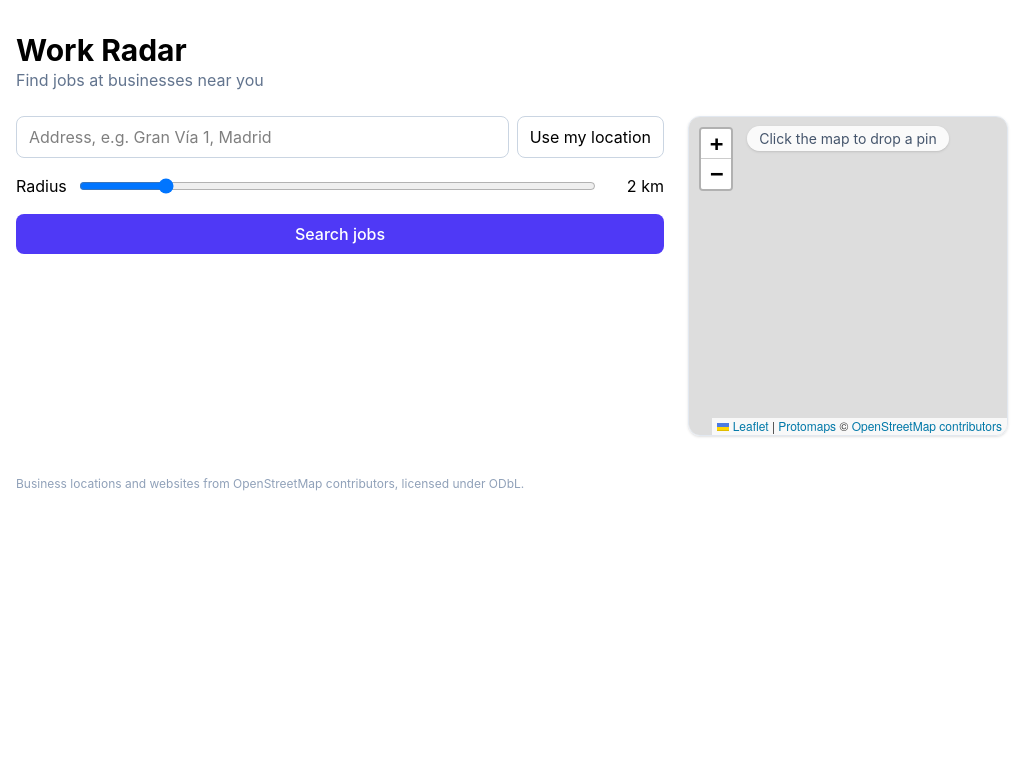
Test case: keeps the two searches apart: positions open, and businesses that only take a CV
Type "Écublens" into the dropdown with placeholder "Address, e.g. Gran Vía 1, Madrid" at (262, 137), box [16,116,509,158]
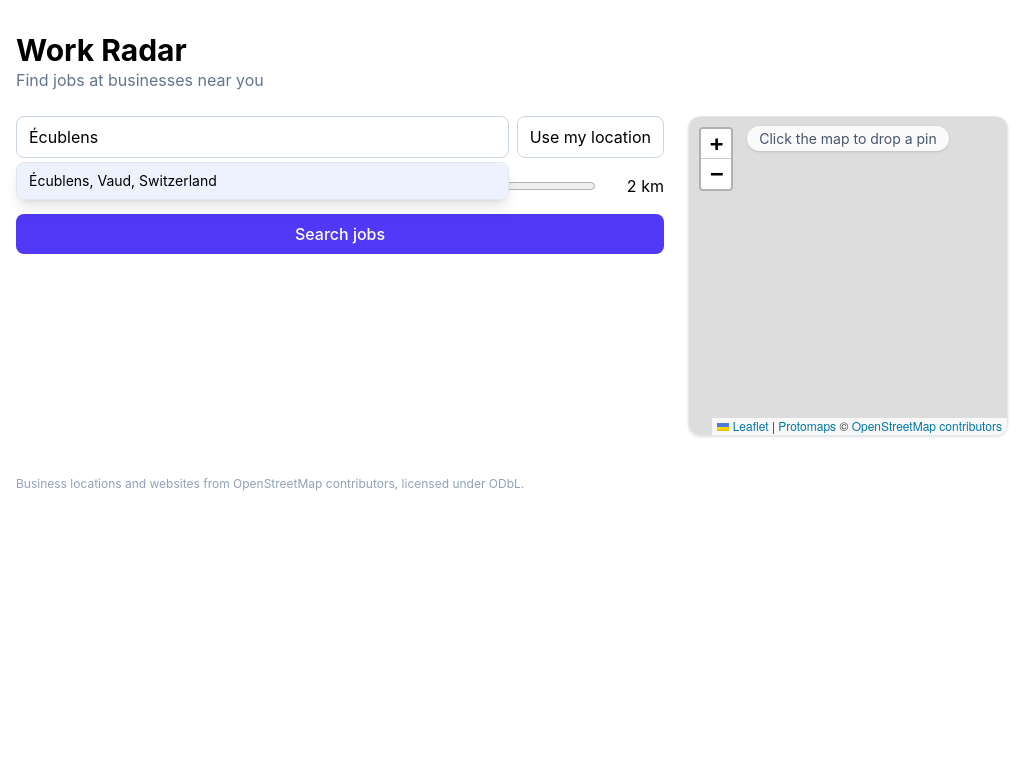
Press the mouse on the button "Écublens, Vaud, Switzerland" at (123, 180), box [17,163,508,199]
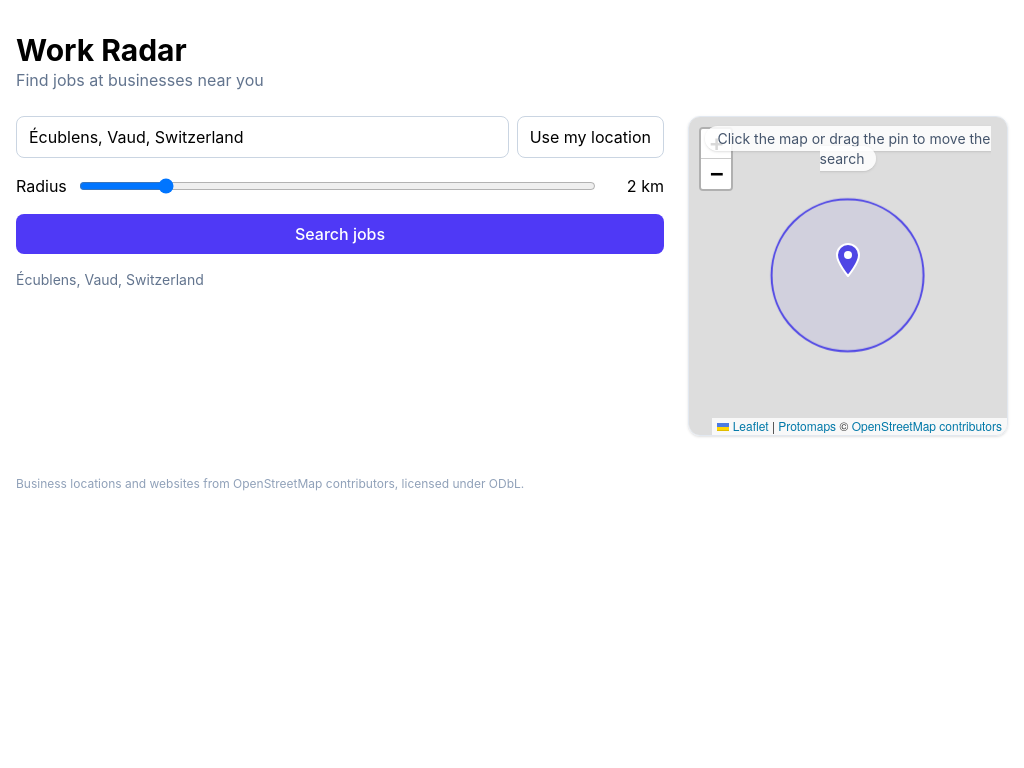
Click the button "Search jobs" at (340, 234), box [16,214,664,254]
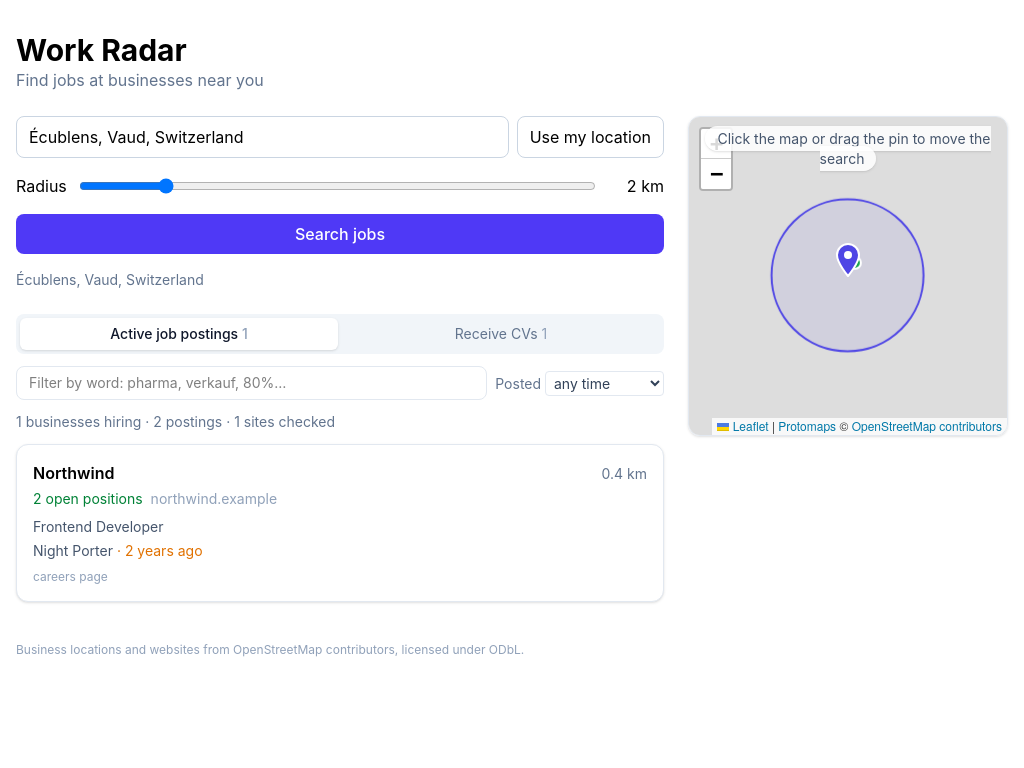
Expected: the text "Café Central" is not shown
Expected: the heading "Northwind" is shown, [33,461,114,485]
Expected: the text "1 businesses hiring · 2 postings · 1 sites checked" is shown, [16,413,335,430]
Click the button "Receive CVs 1" at (501, 334), box [342,318,660,350]
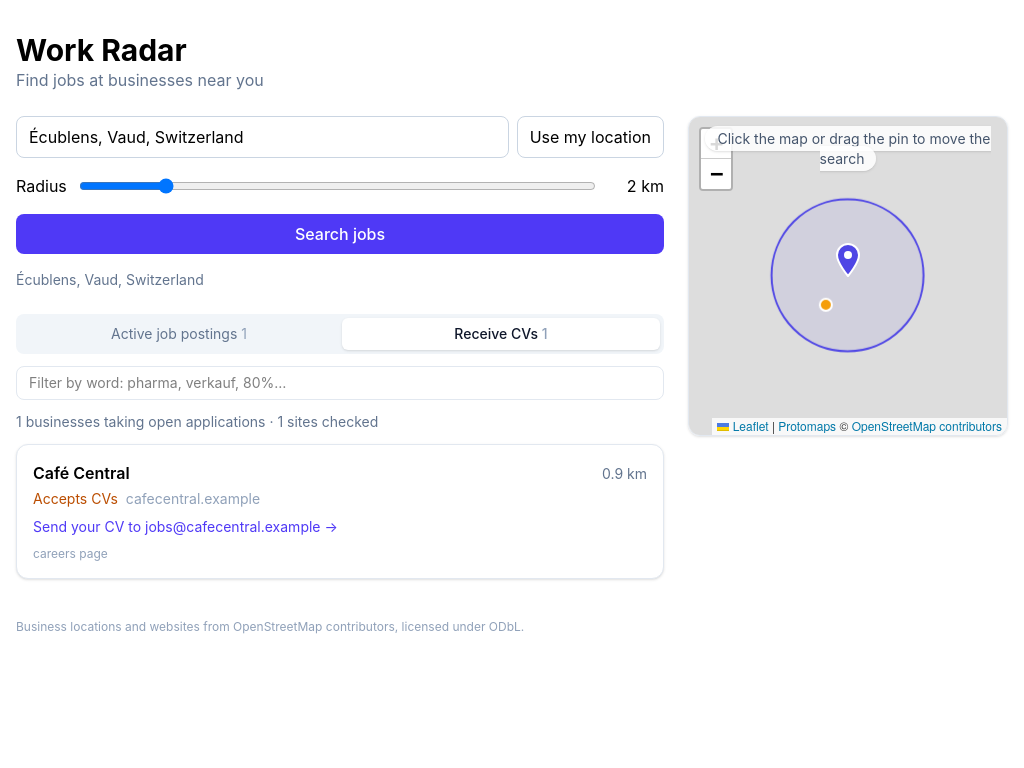
Expected: the heading "Café Central" is shown, [33,461,130,485]
Expected: the heading "Northwind" is gone
Expected: the text "1 businesses taking open applications · 1 sites checked" is shown, [16,413,378,430]
